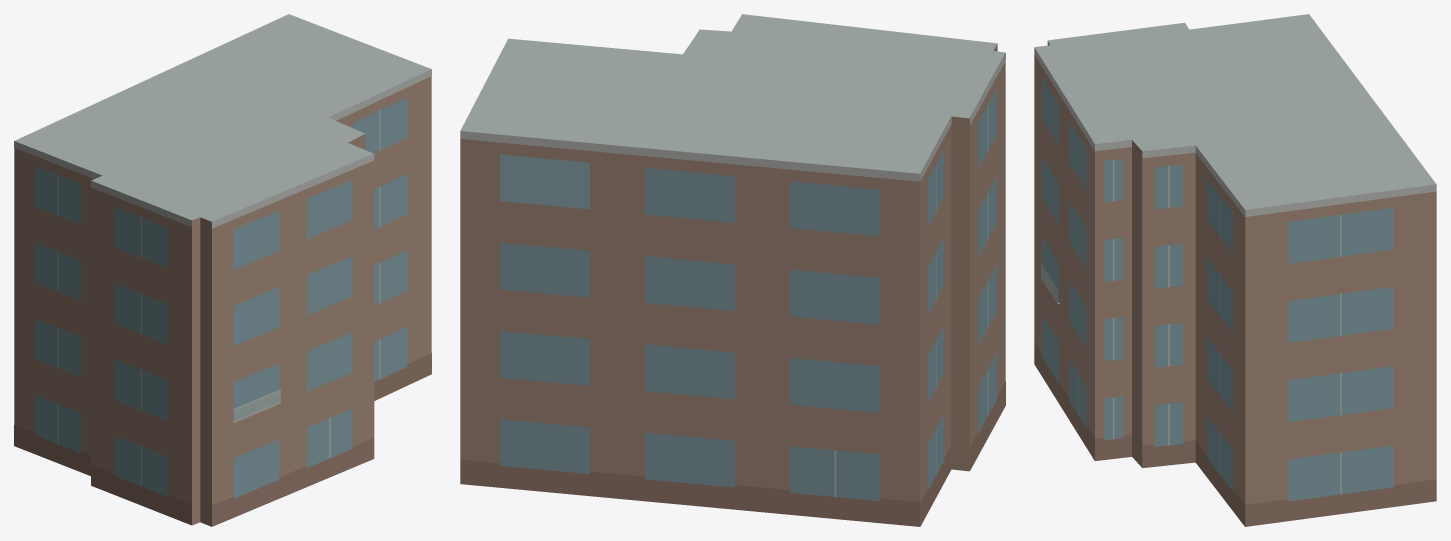
File: survey-upis-33041160.glb
The picture shows the model from 3 angles, left to right: view 1: azimuth 30°, elevation 25°; view 2: azimuth 150°, elevation 25°; view 3: azimuth 270°, elevation 25°; orthographic projection. The views are drawn at different scales.
Parts seen in each view (by area): view 1: survey-upis-33041160.tmp; view 2: survey-upis-33041160.tmp; view 3: survey-upis-33041160.tmp.
Part boxes in pixels (x1=…): survey-upis-33041160.tmp: x1=14, y1=14, x2=431, y2=526; survey-upis-33041160.tmp: x1=460, y1=14, x2=1005, y2=526; survey-upis-33041160.tmp: x1=1034, y1=14, x2=1436, y2=526.
Size of the model in its own units: 14.47 by 10.9 by 12.55.
